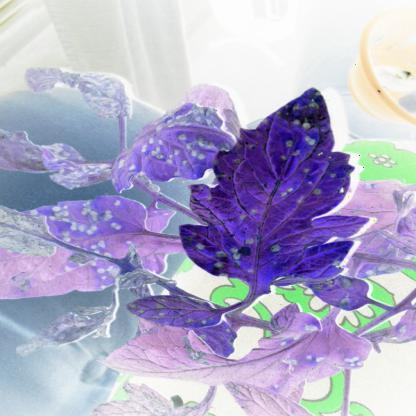Tomato Septoria leaf spot: (183, 81, 368, 291), (102, 314, 393, 390), (99, 102, 247, 192), (34, 195, 156, 262), (104, 288, 231, 328), (303, 272, 385, 309)
